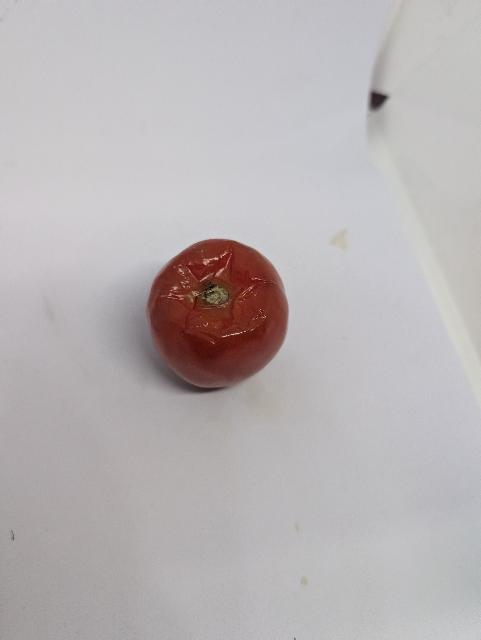defect: (144, 235, 295, 395)
